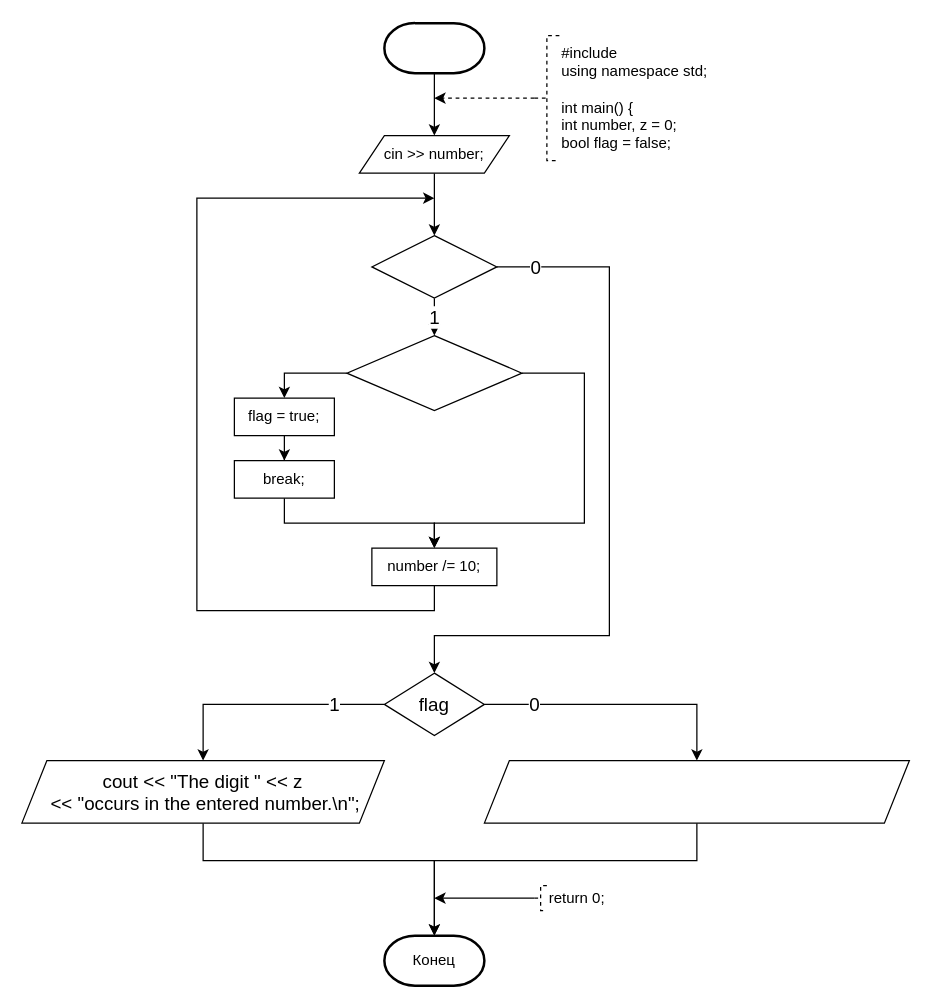
Some shapes in this 931 by 1008 pixel diagram are drawn without their labels. Each missing label, with the centre of its shape:
cout << "The digit " << z << "does not occur in the entered number.\n";: [696,791]
number % 10 = z: [434,372]
number > 0: [434,266]
Начало: [433,47]
